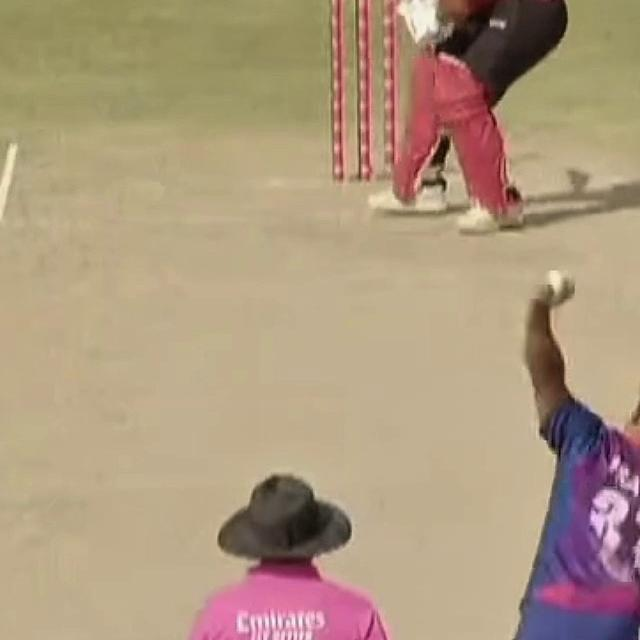umpire: (154, 465, 436, 640)
